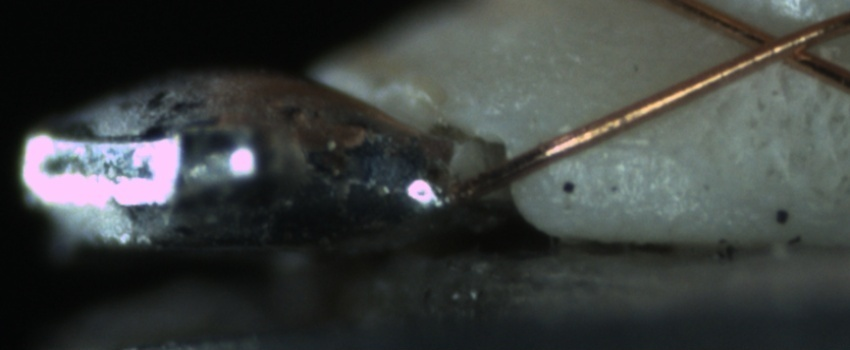CL: (724, 14, 830, 73)
DL: (546, 117, 674, 171)
